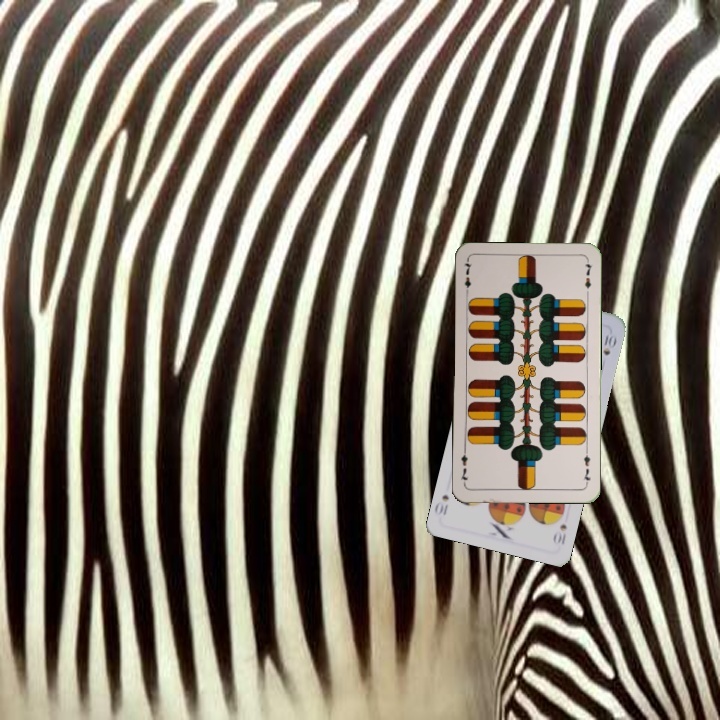E7: (579, 446, 593, 487), (460, 257, 474, 298)
S10: (549, 520, 569, 548)
